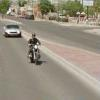Motorcycle: (23, 30, 50, 68)
